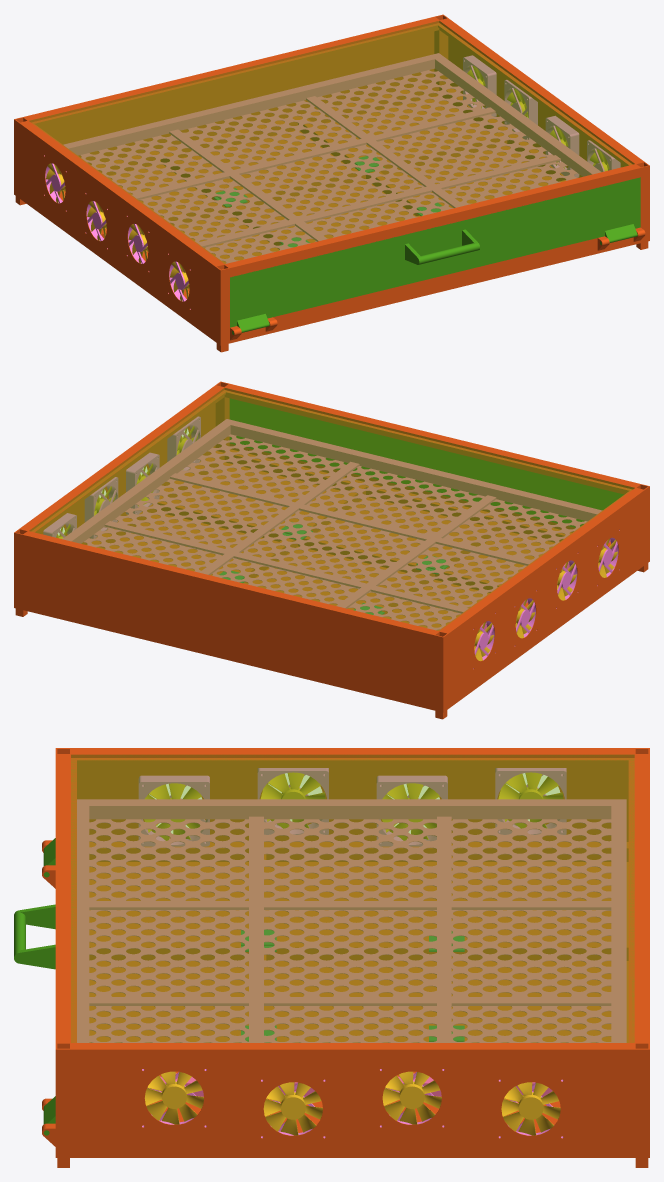
Rendered from Adv_Solar_Dryer-SolarDryer.gltf.
3 views of the same model, one above another, from view 1: azimuth 30°, elevation 25°; view 2: azimuth 150°, elevation 25°; view 3: azimuth 270°, elevation 25° (orthographic). The views are drawn at different scales.
Parts seen in each view (by area): view 1: Poly_Lid001, Module001, Tray001, Door002, FanCasing002, FanCasing004, FanCasing003; view 2: Poly_Lid001, Module001, Tray001, Door002, FanCasing002, FanCasing003, FanCasing001; view 3: Poly_Lid001, Module001, Tray001, Door002, Fan003, Fan002, Fan004, Fan001, FanCasing005, FanCasing007, Fan006, Fan008 (+4 smaller).
Boxes of the visible parts, x1,y1,x2,y2 form: Poly_Lid001: (29, 21, 633, 263); Module001: (14, 14, 649, 352); Tray001: (58, 53, 600, 263); Door002: (230, 177, 640, 334); FanCasing002: (545, 116, 579, 177); FanCasing004: (463, 55, 496, 116); FanCasing003: (504, 80, 537, 139); Poly_Lid001: (29, 388, 634, 630); Module001: (14, 381, 649, 719); Tray001: (63, 419, 610, 630); Door002: (229, 398, 623, 527); FanCasing002: (126, 452, 159, 514); FanCasing003: (84, 477, 118, 538); FanCasing001: (167, 416, 200, 470); Poly_Lid001: (71, 755, 634, 1042); Module001: (42, 748, 649, 1167); Tray001: (77, 799, 626, 1096); Door002: (14, 838, 55, 1135); Fan003: (382, 1071, 441, 1124); Fan002: (263, 1082, 322, 1135); Fan004: (501, 1082, 560, 1135); Fan001: (144, 1071, 203, 1124); FanCasing005: (138, 775, 209, 846); FanCasing007: (376, 775, 447, 846); Fan006: (260, 772, 325, 828); Fan008: (498, 772, 563, 828).
Size of the model in its own units: 1.2 by 0.221 by 1.07.
